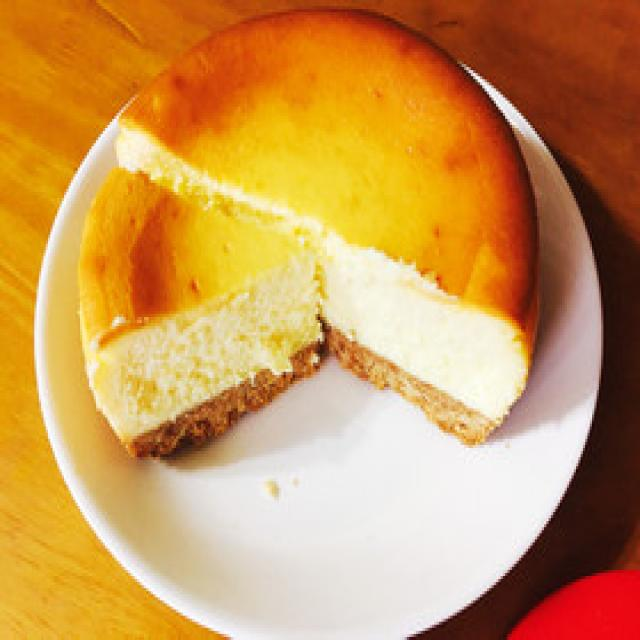cheesecake: (70, 3, 550, 495)
